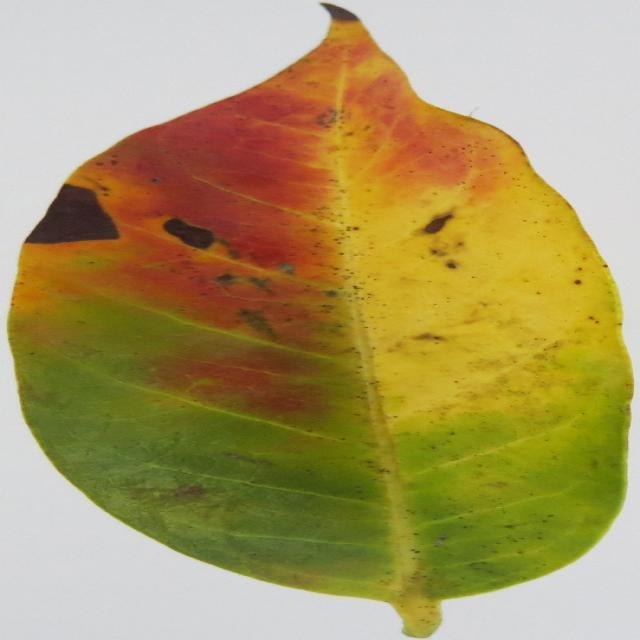DeficienciaNutricional-Fosforo: (10, 4, 631, 637)
